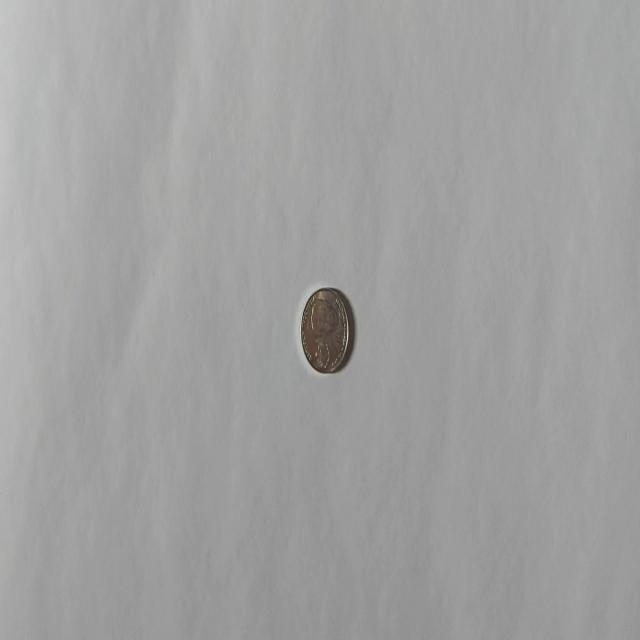seratus rupiah: (299, 286, 349, 374)
